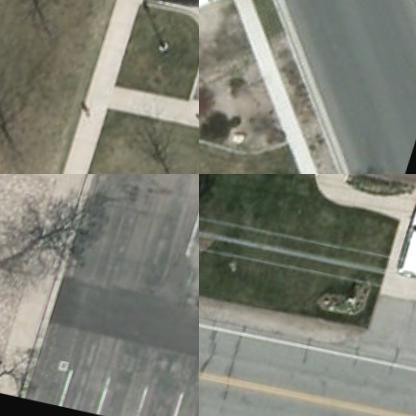car: (395, 208, 415, 284), (146, 0, 198, 12)
van: (199, 0, 242, 43)
